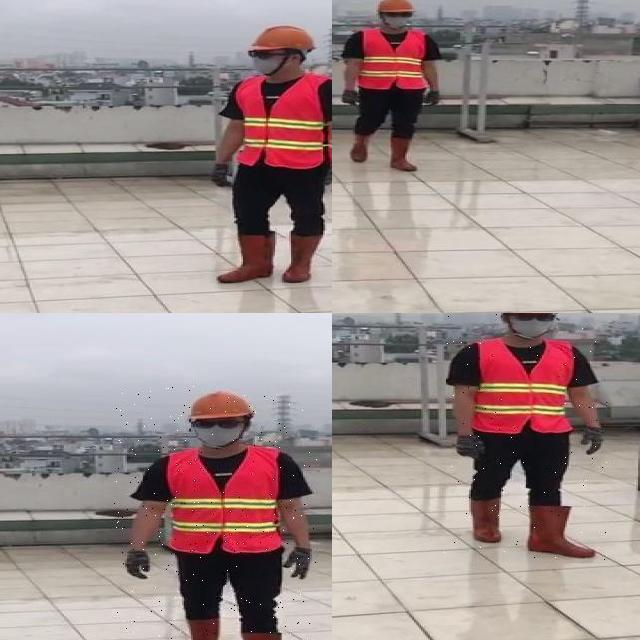BOOTS: (524, 503, 599, 556), (218, 234, 275, 282), (280, 234, 323, 283), (468, 498, 503, 542), (170, 618, 226, 640), (389, 135, 421, 172), (347, 132, 370, 162)
GLASS: (189, 419, 249, 429), (249, 49, 287, 62), (506, 313, 557, 321), (380, 13, 413, 19)
GLOVE: (281, 548, 312, 580), (125, 550, 153, 580), (456, 435, 487, 460), (581, 426, 606, 456), (211, 162, 236, 190), (342, 89, 361, 107), (425, 91, 442, 108), (325, 165, 332, 195)
HELMET: (185, 388, 255, 422), (251, 23, 316, 53), (375, 0, 416, 13)
VEST: (164, 447, 287, 553), (476, 339, 578, 433), (234, 74, 330, 166), (359, 29, 430, 89)
